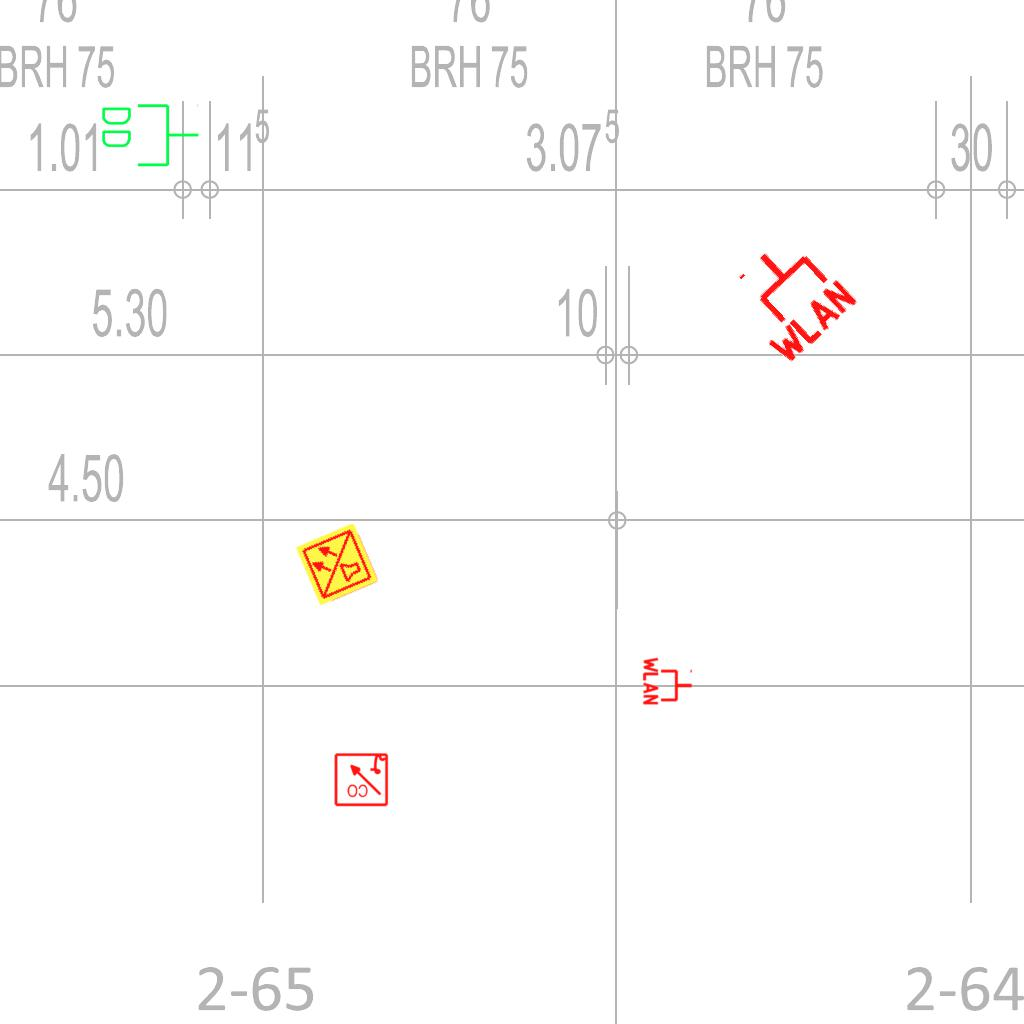Datenanschluss_zweifach: (98, 100, 201, 169)
OKW_Multisensormelder_(Kombination_optischer_Rauch-Kahlenmonoxid_Waerme-Melder): (293, 520, 381, 608)
ROA_Rauchmelder_optisch_mit_Signalgeber_(Sockelsirene): (333, 751, 389, 807)
WLAN: (714, 223, 863, 371), (642, 655, 694, 707)
